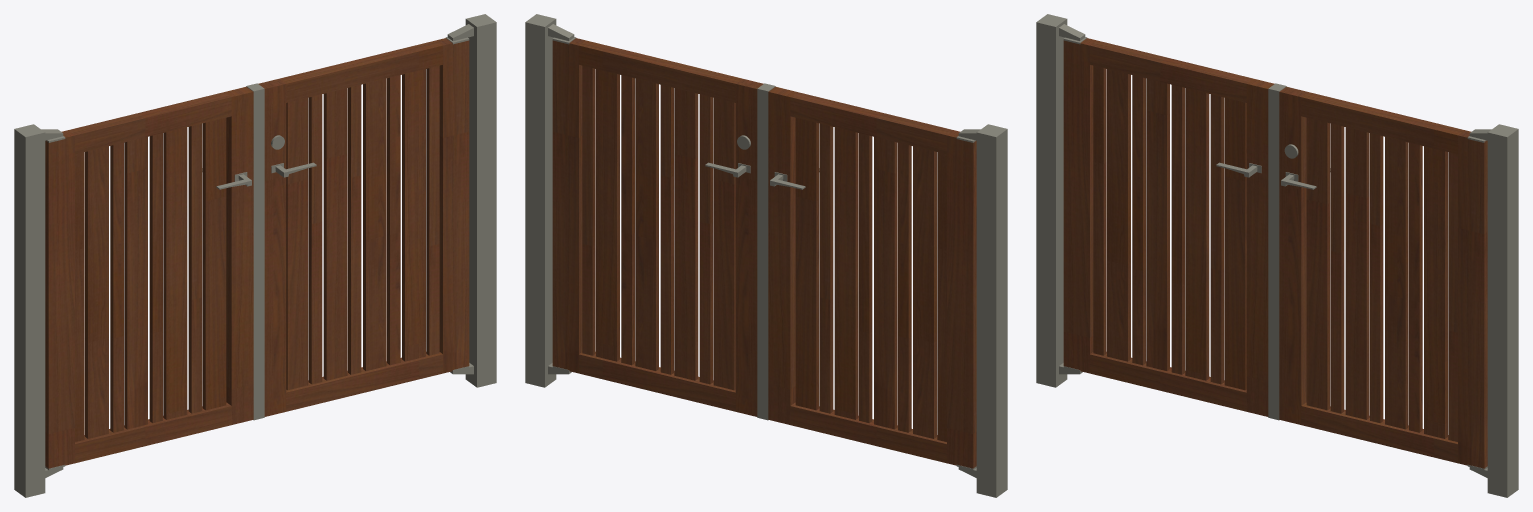
Rendered from awmonpi2-40-80tate_h1200-w800-800_walnut.fbx.
3 renders of one model, left to right at view 1: azimuth 30°, elevation 25°; view 2: azimuth 150°, elevation 25°; view 3: azimuth 330°, elevation 25°, orthographic.
Visible parts, largest first — view 1: awmonpi2-40-80tate_h1200-w800-800_chacoalgray.006; view 2: awmonpi2-40-80tate_h1200-w800-800_chacoalgray.006; view 3: awmonpi2-40-80tate_h1200-w800-800_chacoalgray.006.
Part boxes in pixels (bbox=[...]): awmonpi2-40-80tate_h1200-w800-800_chacoalgray.006: bbox=[14, 14, 496, 497]; awmonpi2-40-80tate_h1200-w800-800_chacoalgray.006: bbox=[525, 14, 1007, 497]; awmonpi2-40-80tate_h1200-w800-800_chacoalgray.006: bbox=[1036, 14, 1518, 497].
Size of the model in its own units: 180 by 132 by 16.7.
2 materials, 2 textured.
